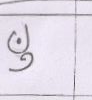u_matra: (11, 53, 36, 72)
